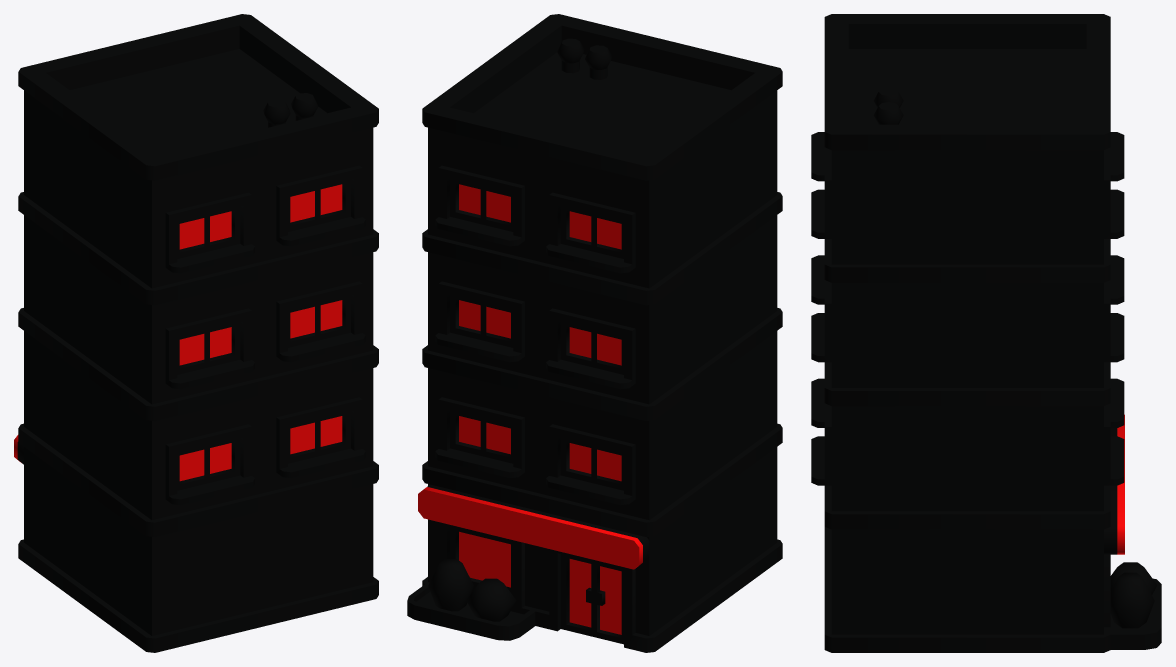
Rendered from building-f.glb.
3 renders of one model, left to right at view 1: azimuth 30°, elevation 25°; view 2: azimuth 150°, elevation 25°; view 3: azimuth 270°, elevation 25°, orthographic. The views are drawn at different scales.
Parts seen in each view (by area): view 1: building-f; view 2: building-f; view 3: building-f.
Part boxes in pixels (x1=…): building-f: x1=14, y1=14, x2=378, y2=652; building-f: x1=407, y1=14, x2=782, y2=652; building-f: x1=811, y1=14, x2=1161, y2=652.
Size of the model in its own units: 0.8402 by 1.69 by 1.03.
1 material, 1 textured.
